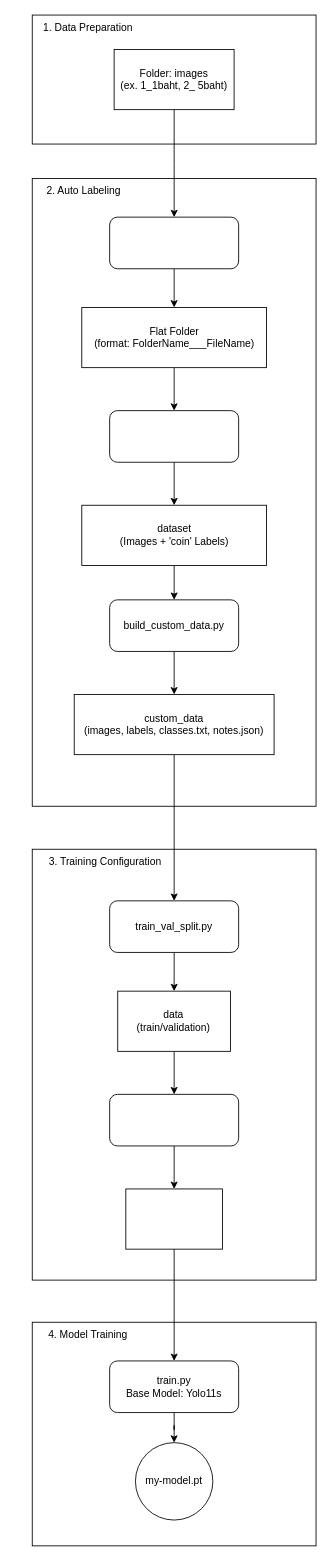
Some shapes in this 331 by 1561 pixel diagram are drawn without their labels. Here are the shapes that lost their labels. From the top down, the centre of each, then its label:
At [174,242]: "flat_images.py".
At [174,436]: "find_coin.py (Grounding Dino)".
At [174,1119]: "config_training.py".
At [173,1218]: "data.yml".
